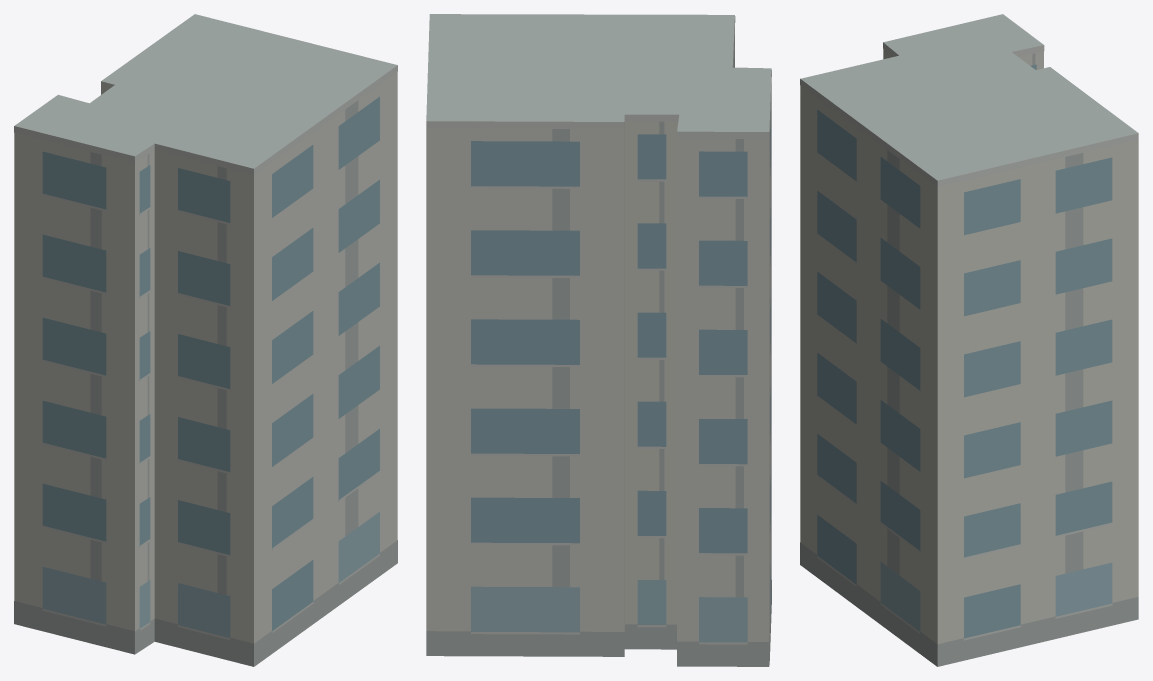
The model's file is survey-upis-32857261.glb.
3 renders of one model, left to right at view 1: azimuth 30°, elevation 25°; view 2: azimuth 150°, elevation 25°; view 3: azimuth 270°, elevation 25°, orthographic. The views are drawn at different scales.
Parts seen in each view (by area): view 1: survey-upis-32857261.tmp; view 2: survey-upis-32857261.tmp; view 3: survey-upis-32857261.tmp.
Boxes of the visible parts, x1,y1,x2,y2 form: survey-upis-32857261.tmp: (14, 14, 397, 666); survey-upis-32857261.tmp: (426, 14, 771, 666); survey-upis-32857261.tmp: (800, 14, 1138, 666).
Size of the model in its own units: 13.47 by 18.3 by 11.55.
